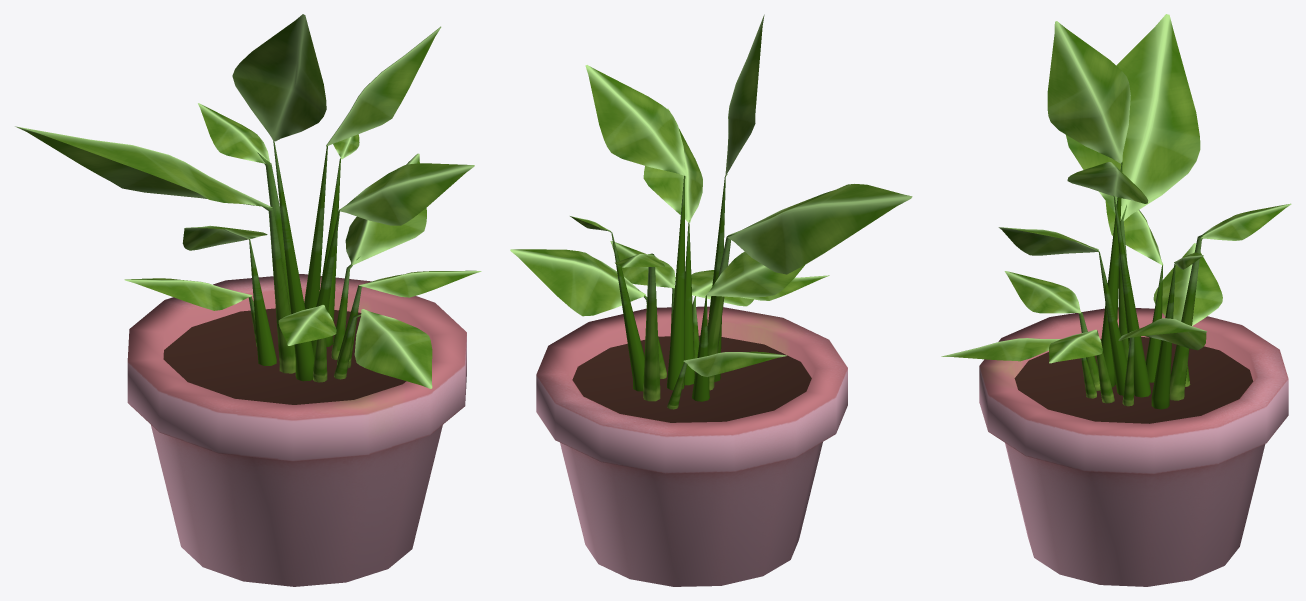
File: plantSmall2_textured.fbx
The picture shows the model from 3 angles, left to right: view 1: azimuth 30°, elevation 25°; view 2: azimuth 150°, elevation 25°; view 3: azimuth 270°, elevation 25°; orthographic projection. The views are drawn at different scales.
Parts seen in each view (by area): view 1: plantSmall2; view 2: plantSmall2; view 3: plantSmall2.
Part boxes in pixels (x1,y1,x2,y2): plantSmall2: (15,14,481,586); plantSmall2: (510,14,912,586); plantSmall2: (941,14,1291,586).
Bounding box in the file's own units: 4006 × 5076 × 3189.
Materials: 1 (1 with a texture image).
